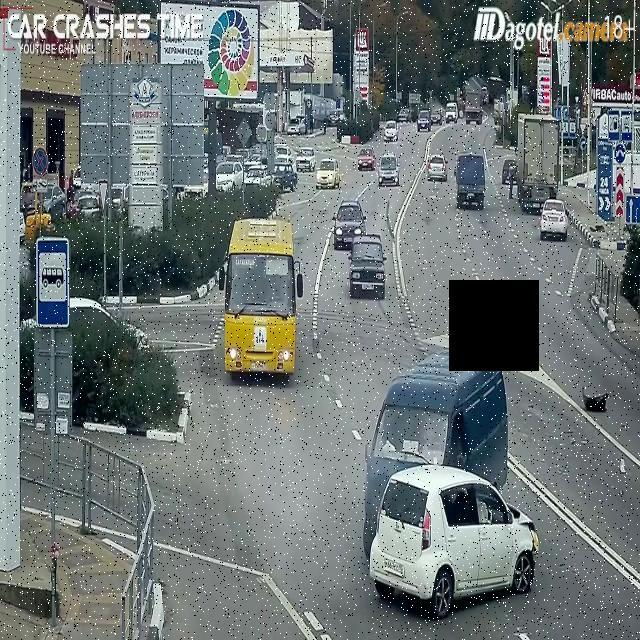moderate: (361, 342, 545, 620)
